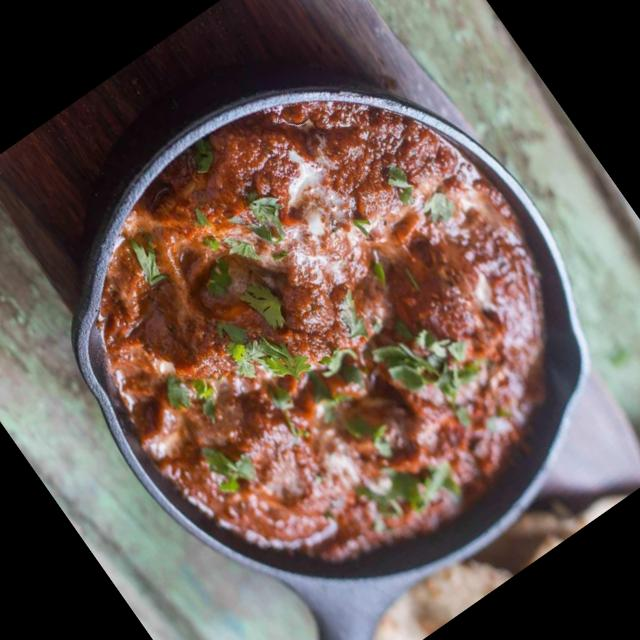chicken: (23, 39, 635, 640)
